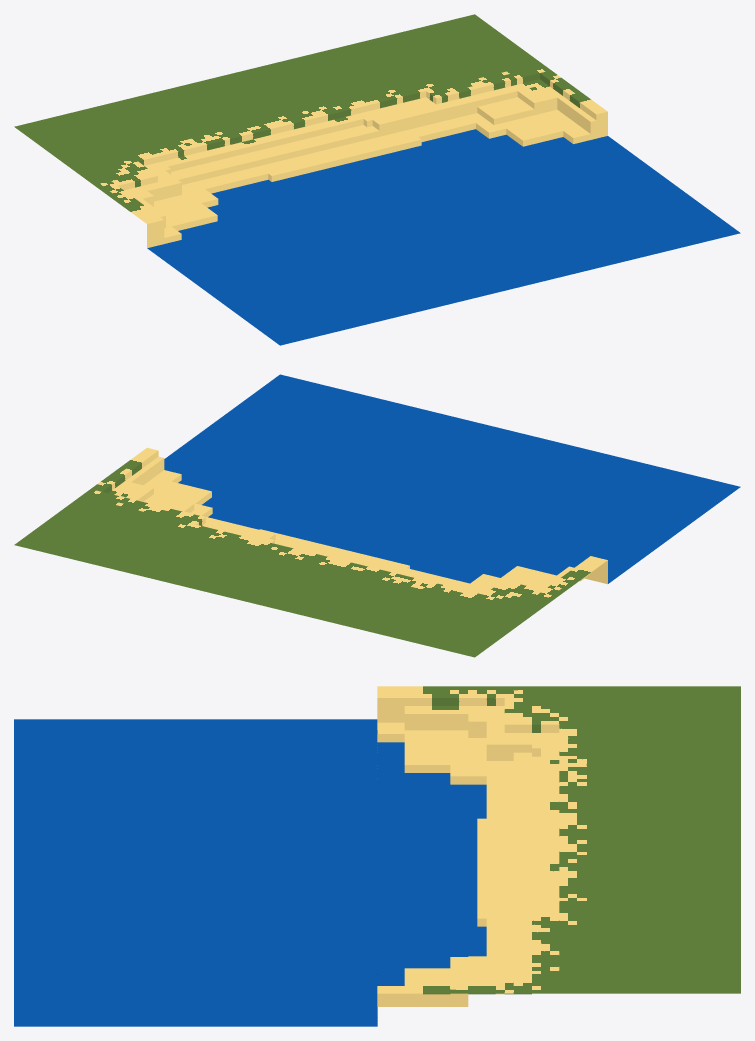
The model's file is LLWW(3).glb.
The picture shows the model from 3 angles, top to bottom: view 1: azimuth 30°, elevation 25°; view 2: azimuth 150°, elevation 25°; view 3: azimuth 270°, elevation 25°; orthographic projection. The views are drawn at different scales.
Parts seen in each view (by area): view 1: model_0.025; view 2: model_0.025; view 3: model_0.025.
Part boxes in pixels (<box>): model_0.025: <box>14,14,740,345</box>; model_0.025: <box>14,374,740,657</box>; model_0.025: <box>14,686,740,1026</box>.
Size of the model in its own units: 80 by 4 by 80.
Materials: 1 (1 with a texture image).
